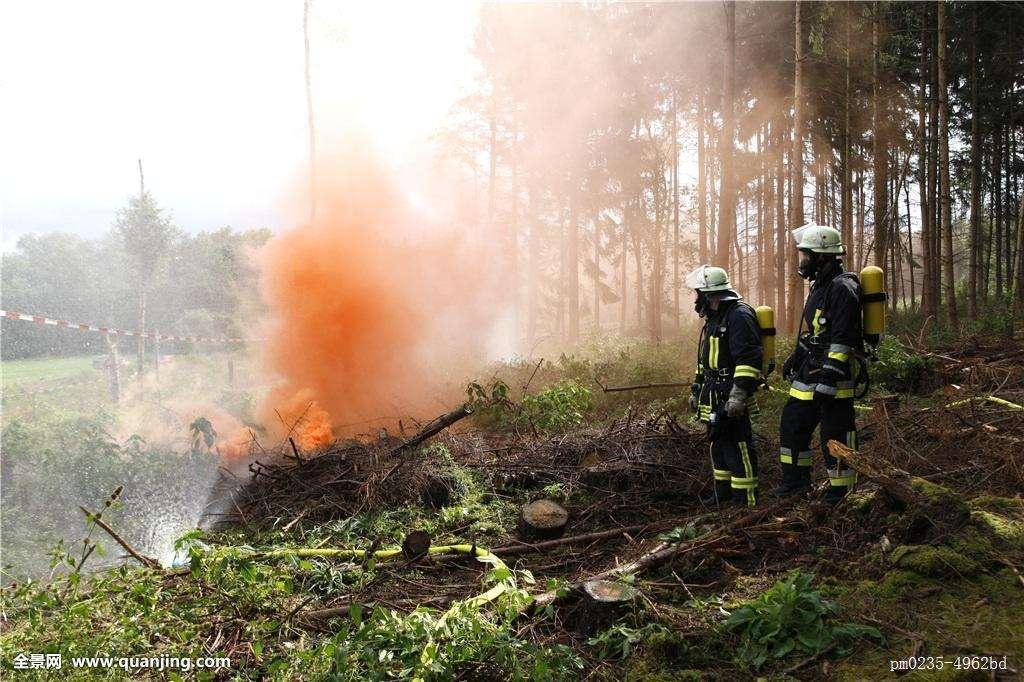fire: (237, 368, 348, 461)
